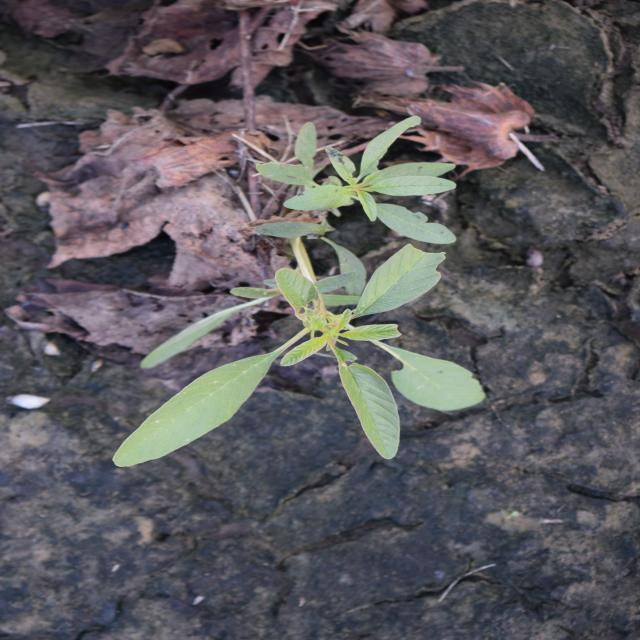Waterhemp: (109, 114, 489, 468)
